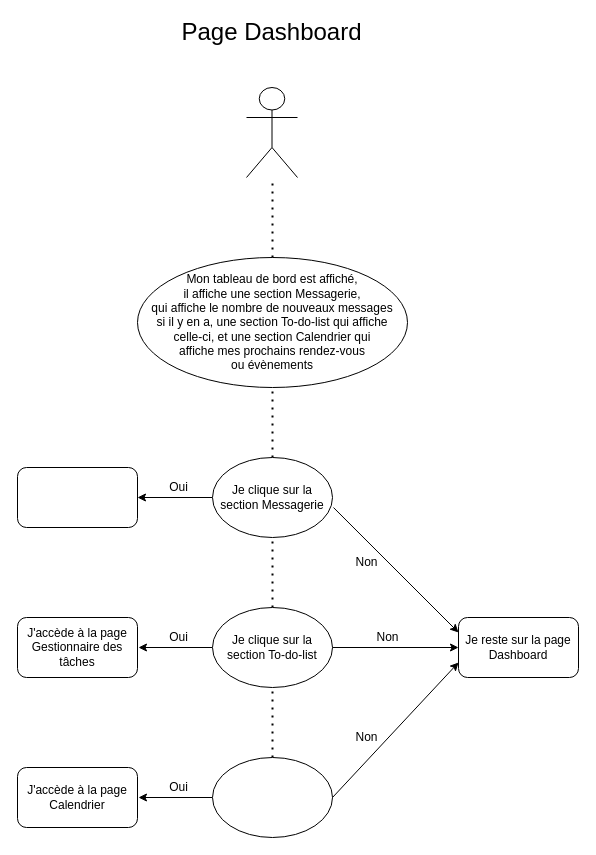
Image size: 596x855. Some labels were removed from this diagram. The shapes that lost their labels are listed below. From the top down, each one's box as (x1, y1, x2, y2) in pixels, then its label:
(246, 86, 298, 178): Utilisateur élève ou professeur connecté
(16, 466, 138, 528): J'accède à la page Messagerie
(212, 756, 332, 838): Je clique sur la section Calendrier
